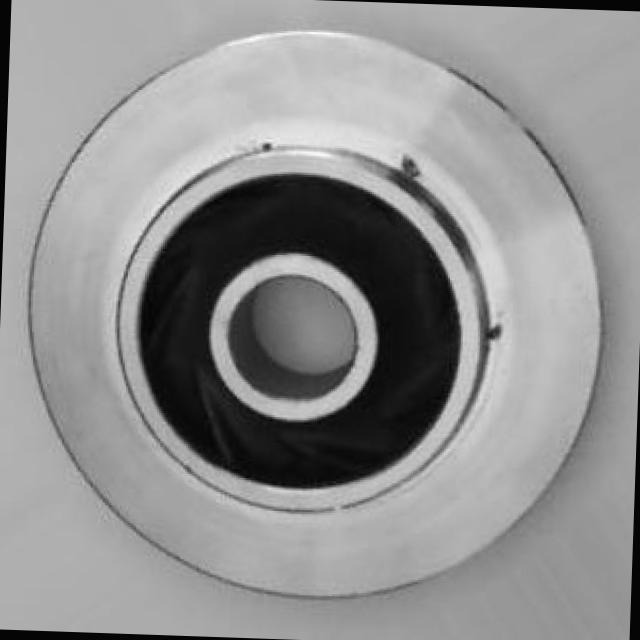Defect: (396, 150, 426, 182)
